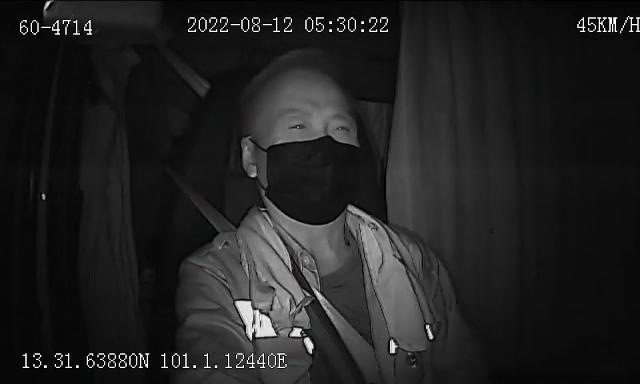SafeDriving: (324, 115, 356, 138), (281, 115, 313, 134)
Seatbelt: (142, 131, 270, 289)
